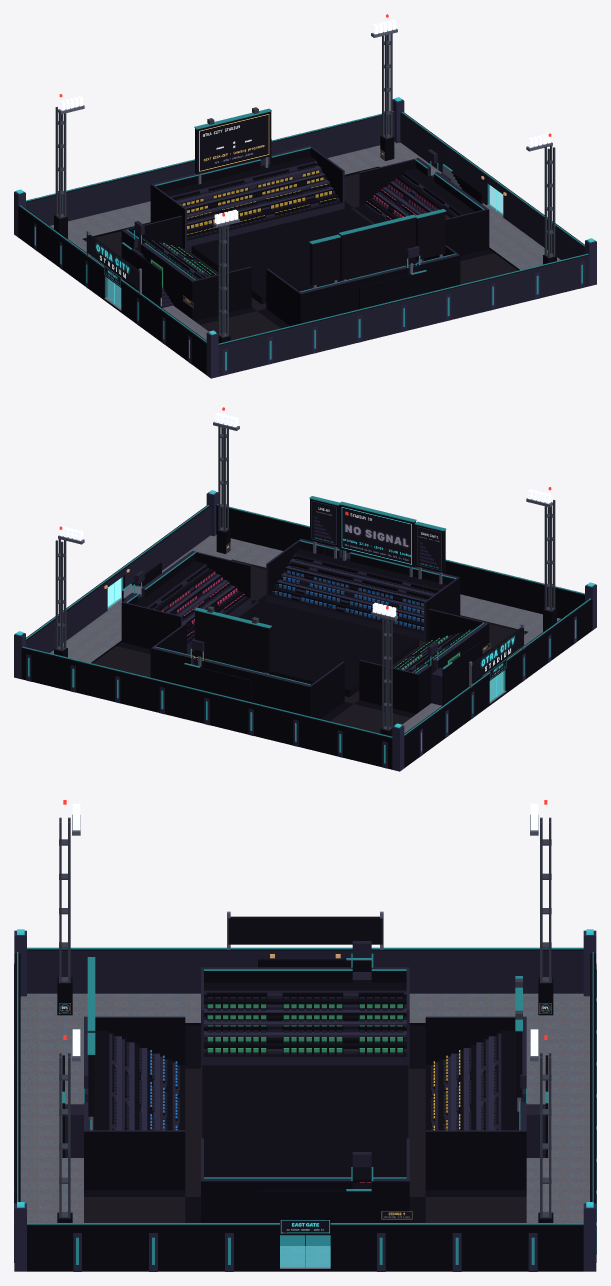
File: venue.glb
The picture shows the model from 3 angles, top to bottom: view 1: azimuth 30°, elevation 25°; view 2: azimuth 150°, elevation 25°; view 3: azimuth 270°, elevation 25°; orthographic projection. The views are drawn at different scales.
Parts seen in each view (by area): view 1: stadium_bowl, col_deck, col_stand_s, col_walls, col_stand_w, col_stand_n, col_stand_e, screen_score, stadium_signs, col_masts; view 2: stadium_bowl, col_walls, col_deck, col_stand_n, col_stand_w, col_stand_s, col_stand_e, screen_main, stadium_signs, panel_right, panel_left, col_masts; view 3: stadium_bowl, col_deck, col_walls, col_stand_s, col_stand_n, col_stand_w, col_stand_e, stadium_signs, col_masts, gate_e_R, gate_e_L.
Boxes of the visible parts, box(x1,y1,x2,y2) form: stadium_bowl: box(14, 14, 596, 378); col_deck: box(18, 166, 519, 374); col_stand_s: box(150, 148, 342, 248); col_walls: box(18, 112, 588, 374); col_stand_w: box(121, 216, 251, 320); col_stand_n: box(266, 247, 460, 325); col_stand_e: box(360, 160, 489, 255); screen_score: box(198, 113, 269, 172); stadium_signs: box(87, 149, 384, 308); col_masts: box(54, 135, 556, 343); stadium_bowl: box(14, 407, 596, 771); col_walls: box(21, 505, 592, 767); col_deck: box(21, 560, 592, 769); col_stand_n: box(268, 541, 460, 641); col_stand_w: box(359, 609, 489, 713); col_stand_s: box(150, 624, 344, 718); col_stand_e: box(121, 553, 250, 648); screen_main: box(341, 506, 412, 565); stadium_signs: box(226, 542, 523, 682); panel_right: box(311, 500, 336, 545); panel_left: box(416, 526, 441, 570); col_masts: box(54, 528, 556, 736); stadium_bowl: box(14, 800, 596, 1271); col_deck: box(27, 1023, 583, 1271); col_walls: box(14, 949, 596, 1271); col_stand_s: box(425, 1018, 548, 1190); col_stand_n: box(62, 1018, 185, 1190); col_stand_w: box(204, 959, 406, 1056); col_stand_e: box(201, 1181, 409, 1245); stadium_signs: box(58, 1003, 551, 1233); col_masts: box(57, 977, 553, 1222); gate_e_R: box(305, 1235, 330, 1267); gate_e_L: box(280, 1235, 304, 1267).
Bounding box in the file's own units: 52.08 × 18.75 × 46.08.
9 materials, 9 textured.
